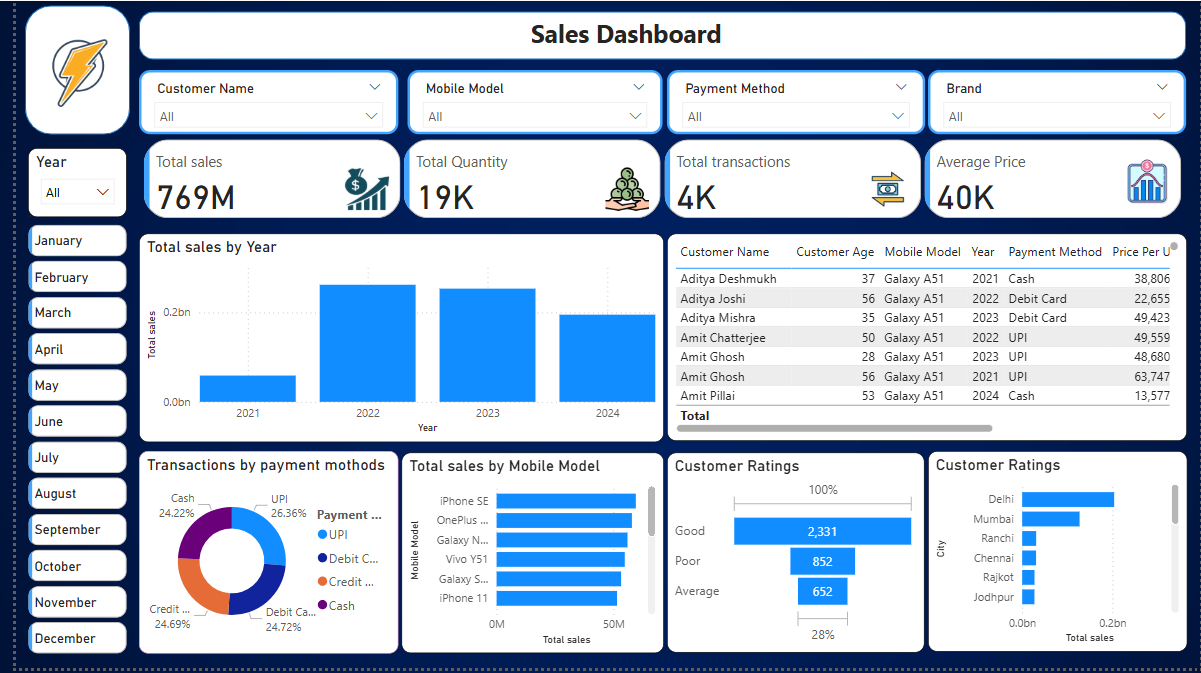

The page's visual inventory and layout, read from the dashboard file:
{"tool":"powerbi","page":{"name":"Page 1","canvas":[1280,720],"ordinal":0},"visuals":[{"type":"advancedSlicerVisual","fields":{"Values":["Customer_calendar.Date.Variation.Date Hierarchy.Month"]},"box":[8.1,217,116.6,500.3],"z":0},{"type":"cardVisual","fields":{"Data":["Sales_data.Total sales","Sales_data.Total Quantity","Sales_data.Total transactions","Sales_data.Average Price"]},"box":[132.8,144.1,1131.8,95.5],"z":1000},{"type":"slicer","fields":{"Values":["Sales_data.Mobile Model"]},"box":[422.6,74.5,275.3,69.6],"z":2000},{"type":"slicer","fields":{"Values":["Sales_data.Brand"]},"box":[984.5,74.5,278.5,69.6],"z":3000},{"type":"slicer","fields":{"Values":["Sales_data.Payment Method"]},"box":[702.7,74.5,278.5,69.6],"z":4000},{"type":"slicer","fields":{"Values":["Sales_data.Customer Name"]},"box":[132.8,74.5,280.1,69.6],"z":5000},{"type":"donutChart","title":"Transactions by payment mothods","fields":{"Y":["Sales_data.Payment Method"],"Category":["Sales_data.Payment Method"]},"box":[132.8,485.8,280.1,218.6],"z":6000},{"type":"tableEx","fields":{"Values":["Sales_data.Customer Name","Sales_data.Customer Age","Sales_data.Mobile Model","Sales_data.Year","Sales_data.Payment Method","Sales_data.Price Per Unit","Sales_data.Total Quantity","Sales_data.Transaction ID","Sales_data.Rating status"]},"box":[702.7,251,561,224],"z":7000},{"type":"funnel","title":"Customer Ratings","fields":{"Y":["Sales_data.Customer Ratings"],"Category":["Sales_data.Rating status"]},"box":[702.7,487.4,278,216],"z":8000},{"type":"barChart","fields":{"Category":["Sales_data.Mobile Model"],"Y":["Sales_data.Total sales"]},"box":[416.1,487.4,283.4,217],"z":9000},{"type":"clusteredBarChart","title":"Customer Ratings","fields":{"Category":["Sales_data.City"],"Y":["Sales_data.Total sales"]},"box":[984.5,485.8,280.1,217],"z":10000},{"type":"columnChart","fields":{"Y":["Sales_data.Total sales"],"Category":["Sales_data.Year"]},"box":[132.8,251,566.7,225.1],"z":11000},{"type":"shape","box":[132.8,11.3,1130.2,51.8],"z":12000},{"type":"slicer","title":"Year","fields":{"Values":["Sales_data.Year"]},"box":[13,158.7,106.9,74.5],"z":13000},{"type":"textbox","box":[550.5,11.3,730.3,63.1],"z":14000},{"type":"shape","box":[9.7,4.9,113.3,139.3],"z":15001},{"type":"image","box":[13,16.2,106.9,116.6],"z":15002}]}

Visuals, with their boxes in screenshot pixels (x1, y1, x2, y2), scaled from the page's 1280x720 canvas onto the 1201x673 screenshot:
advancedSlicerVisual - Customer_calendar.Date.Variation.Date Hierarchy.Month: 8 203 117 670
cardVisual - Sales_data.Total sales x Sales_data.Total Quantity: 125 135 1187 224
slicer - Sales_data.Mobile Model: 397 70 655 135
slicer - Sales_data.Brand: 924 70 1185 135
slicer - Sales_data.Payment Method: 659 70 921 135
slicer - Sales_data.Customer Name: 125 70 387 135
"Transactions by payment mothods" donutChart: 125 454 387 658
tableEx - Sales_data.Customer Name x Sales_data.Customer Age: 659 235 1186 444
"Customer Ratings" funnel: 659 456 920 657
barChart - Sales_data.Mobile Model x Sales_data.Total sales: 390 456 656 658
"Customer Ratings" clusteredBarChart: 924 454 1187 657
columnChart - Sales_data.Total sales x Sales_data.Year: 125 235 656 445
shape: 125 11 1185 59
"Year" slicer: 12 148 112 218
textbox: 517 11 1200 70
shape: 9 5 115 135
image: 12 15 112 124
